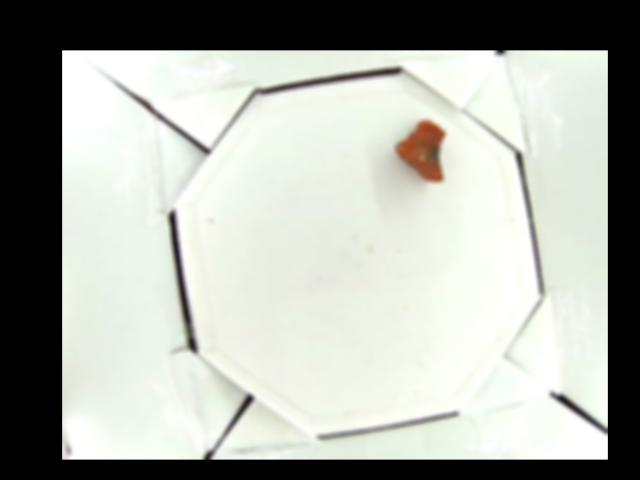Brisk: (394, 120, 444, 182)
